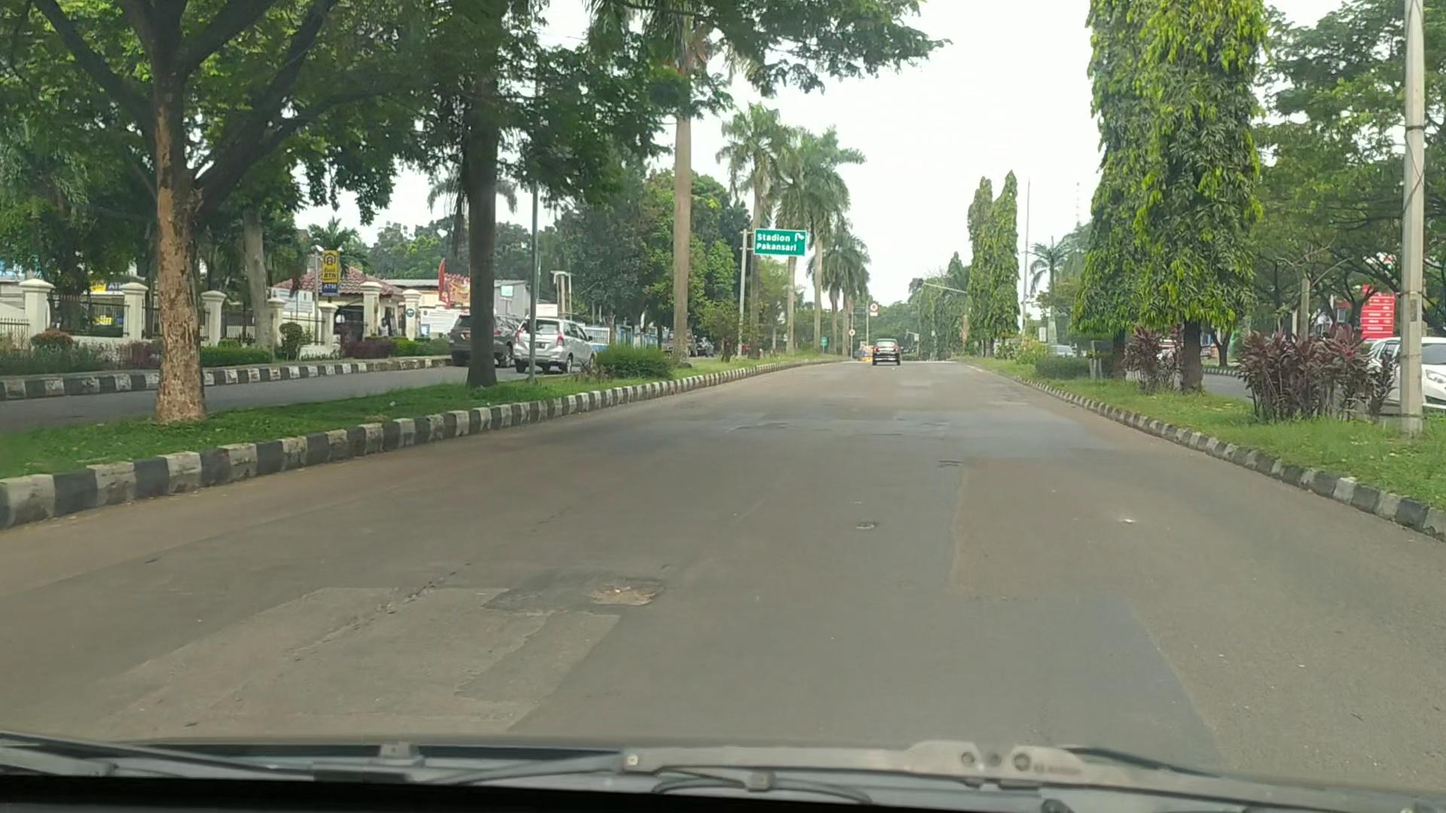pothole: (586, 582, 658, 607), (853, 521, 878, 530), (936, 463, 960, 469)
